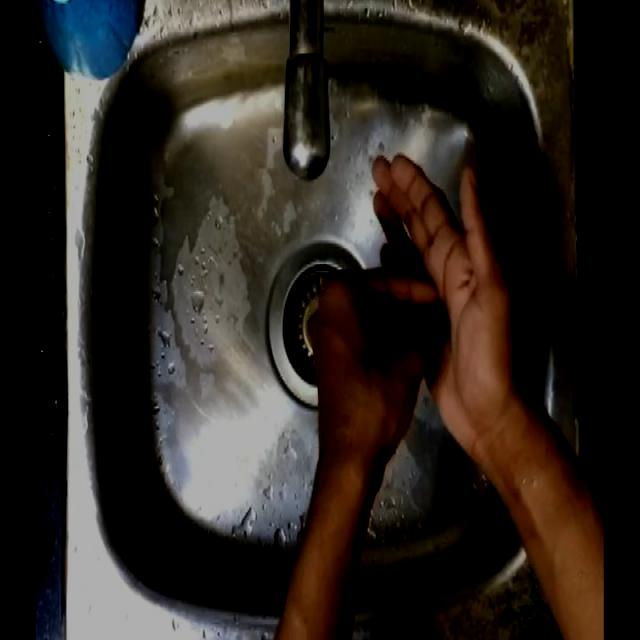step_6: (304, 147, 518, 481)
